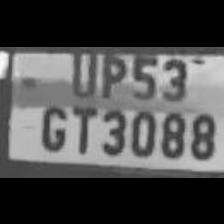0: (125, 103, 155, 157)
3: (96, 101, 126, 155), (156, 54, 188, 100)
5: (125, 48, 159, 98)
8: (185, 106, 217, 160), (158, 106, 187, 158)
G: (34, 100, 68, 152)
P: (96, 48, 126, 100)
T: (68, 99, 98, 155)
U: (63, 46, 97, 100)
